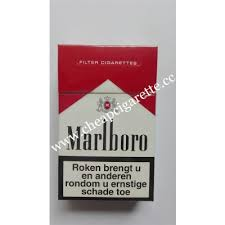marlboro: (58, 48, 156, 200)
